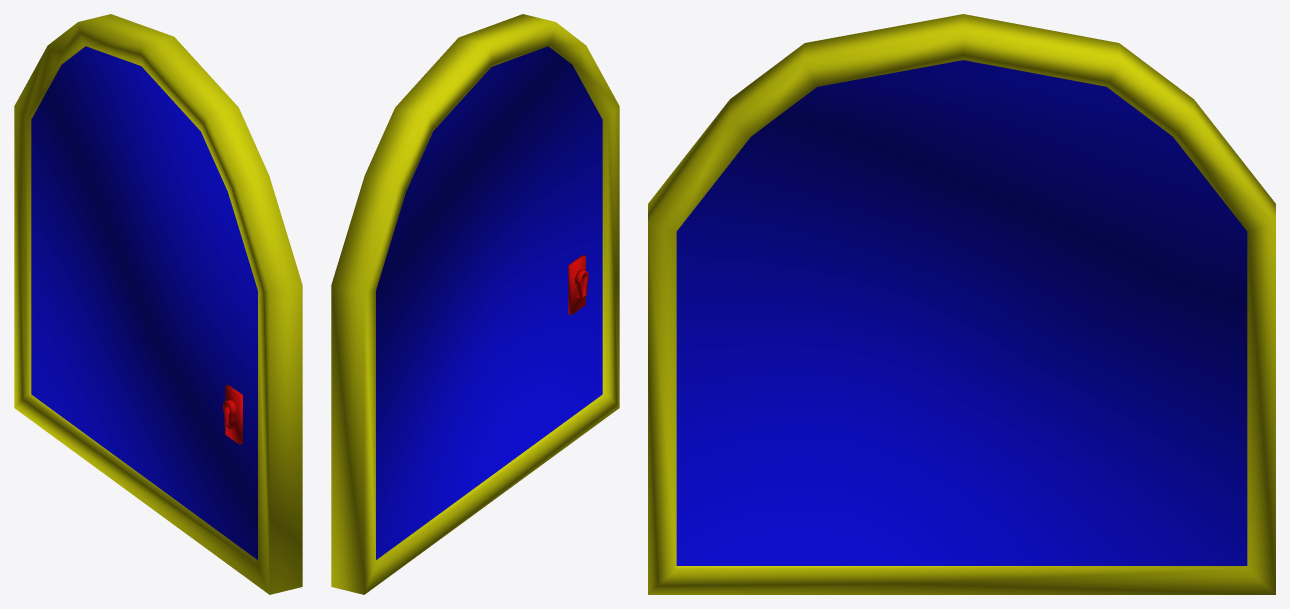
Rendered from Door5_Gizmo.FBX.
3 renders of one model, left to right at view 1: azimuth 30°, elevation 25°; view 2: azimuth 150°, elevation 25°; view 3: azimuth 270°, elevation 25°, orthographic. The views are drawn at different scales.
Parts seen in each view (by area): view 1: Door5:Box003, Door5:serrure005; view 2: Door5:Box003, Door5:serrure005; view 3: Door5:Box003.
Boxes of the visible parts, x1,y1,x2,y2 form: Door5:Box003: (14, 14, 302, 594); Door5:serrure005: (225, 385, 242, 444); Door5:Box003: (331, 14, 619, 594); Door5:serrure005: (568, 255, 585, 314); Door5:Box003: (648, 14, 1275, 594).
Bounding box in the file's own units: 7.13 × 84.85 × 86.04.
